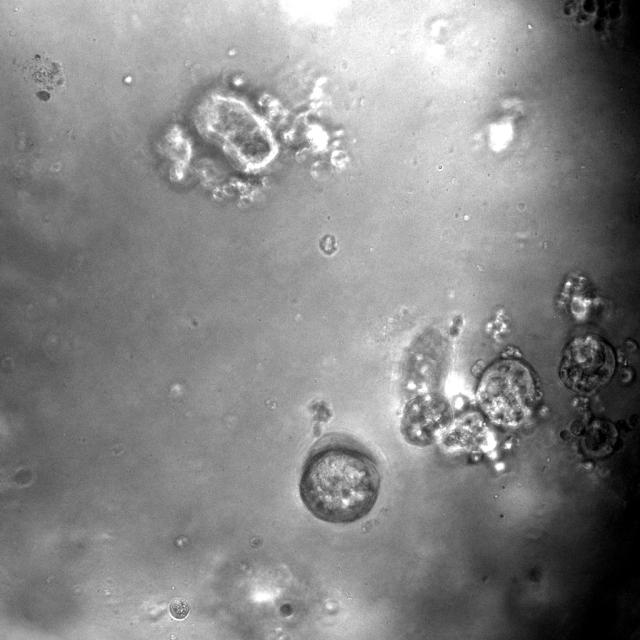organoid: (154, 75, 349, 201), (399, 316, 546, 473), (555, 271, 639, 460), (299, 432, 380, 523), (564, 0, 621, 36), (485, 307, 512, 343), (309, 399, 332, 436), (168, 597, 189, 620), (319, 234, 337, 256), (279, 603, 292, 617), (36, 90, 51, 101), (249, 536, 262, 548)
